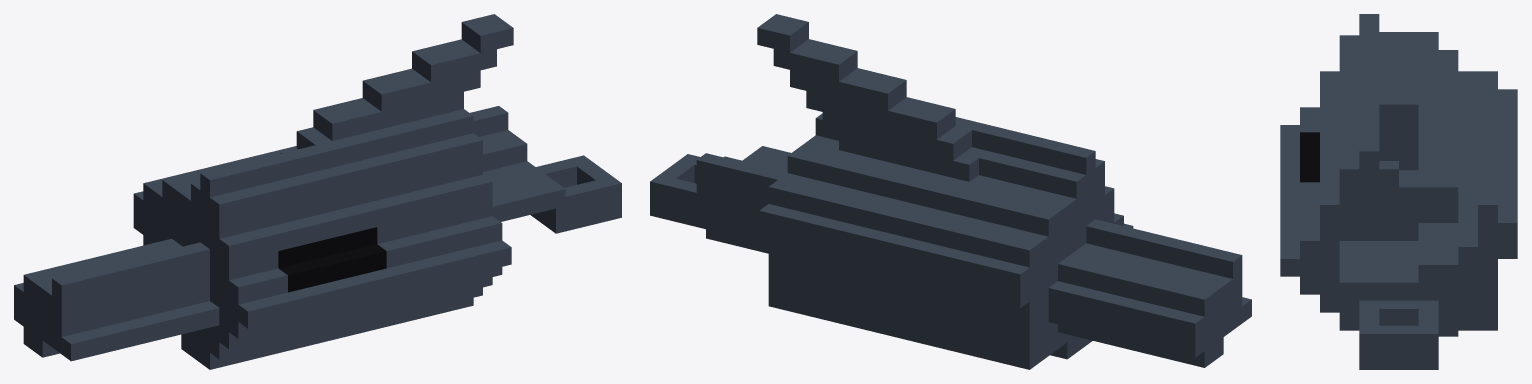
The model's file is tindalos_whistle.glb.
3 views of the same model, side by side, from view 1: azimuth 30°, elevation 25°; view 2: azimuth 150°, elevation 25°; view 3: azimuth 270°, elevation 25° (orthographic). The views are drawn at different scales.
Parts seen in each view (by area): view 1: tindalos_whistle:compound; view 2: tindalos_whistle:compound; view 3: tindalos_whistle:compound.
Part boxes in pixels (left/top/right/bottom): tindalos_whistle:compound: left=14, top=14, right=621, bottom=369; tindalos_whistle:compound: left=650, top=14, right=1251, bottom=369; tindalos_whistle:compound: left=1280, top=14, right=1517, bottom=369.
Size of the model in its own units: 0.068 by 0.03 by 0.024.
